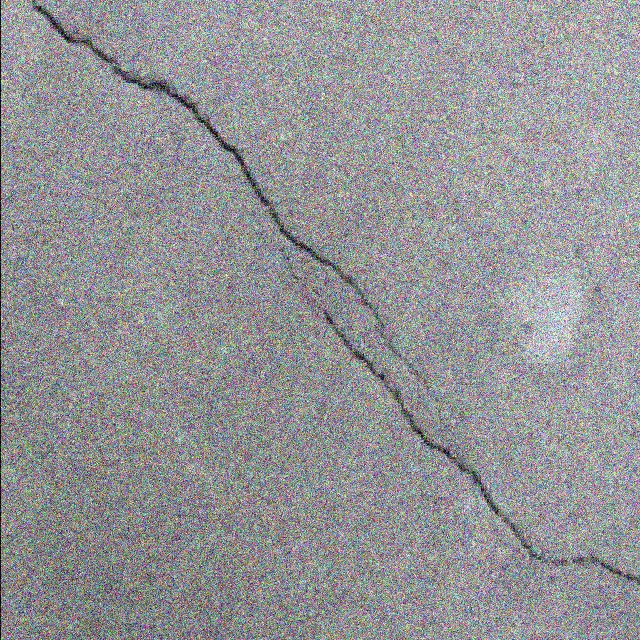SurfaceCrack: (14, 0, 640, 592)
